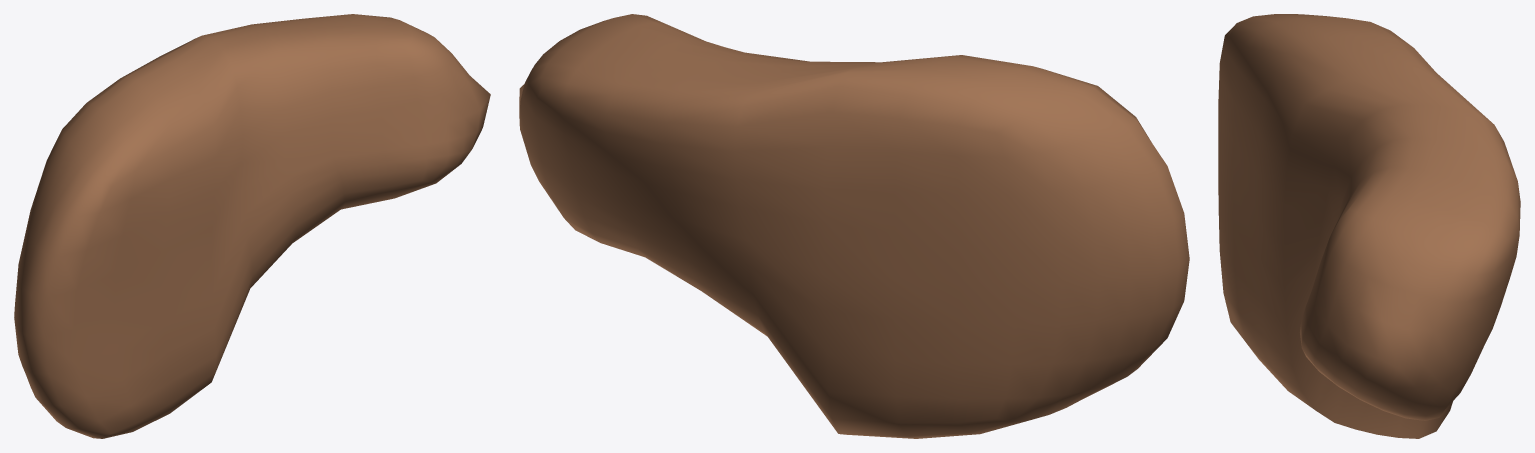
The model's file is Platelet.fbx.
The picture shows the model from 3 angles, left to right: view 1: azimuth 30°, elevation 25°; view 2: azimuth 150°, elevation 25°; view 3: azimuth 270°, elevation 25°; orthographic projection. The views are drawn at different scales.
Parts seen in each view (by area): view 1: Cube; view 2: Cube; view 3: Cube.
Part boxes in pixels (box(x1,y1,x2,y2)): Cube: box(14, 14, 490, 438); Cube: box(519, 14, 1189, 438); Cube: box(1218, 14, 1520, 438).
Bounding box in the file's own units: 2.14 × 1.24 × 0.906.
